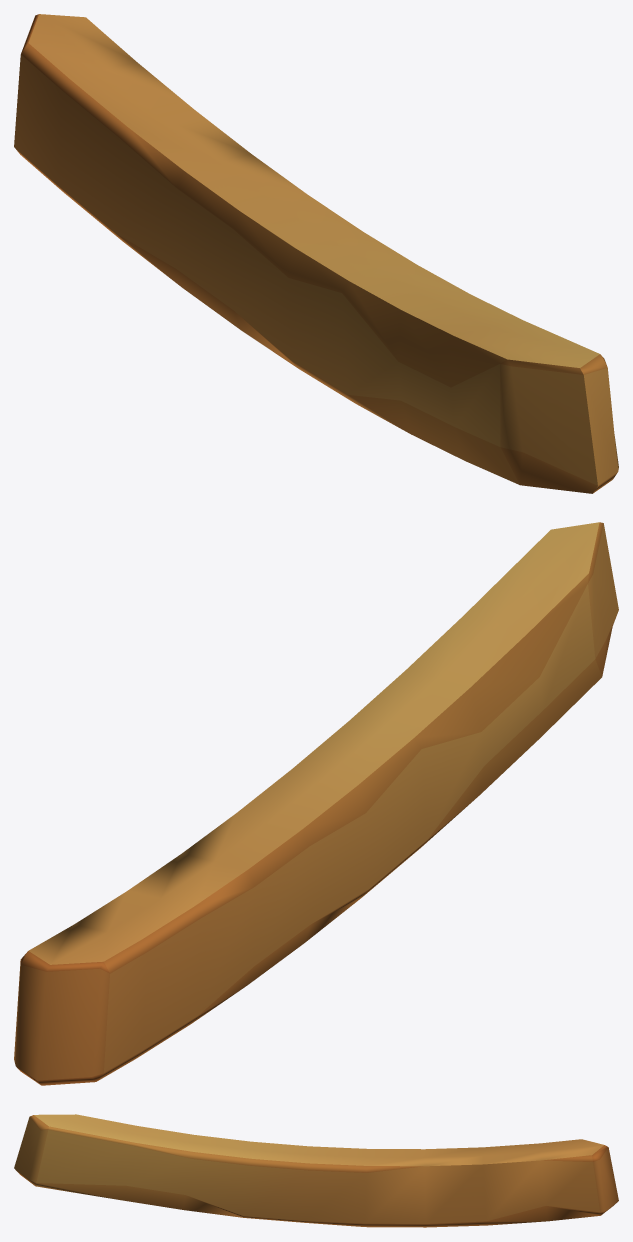
The model's file is consumables-junkfood-frenchfry_v1.glb.
3 views of the same model, one above another, from view 1: azimuth 30°, elevation 25°; view 2: azimuth 150°, elevation 25°; view 3: azimuth 270°, elevation 25° (orthographic). The views are drawn at different scales.
Visible parts, largest first — view 1: FrenchFry_v1; view 2: FrenchFry_v1; view 3: FrenchFry_v1.
Part boxes in pixels (x1,y1,x2,y2): FrenchFry_v1: (14, 14, 618, 493); FrenchFry_v1: (14, 522, 618, 1085); FrenchFry_v1: (14, 1114, 618, 1227).
Bounding box in the file's own units: 0.0101 × 0.0197 × 0.1079.
